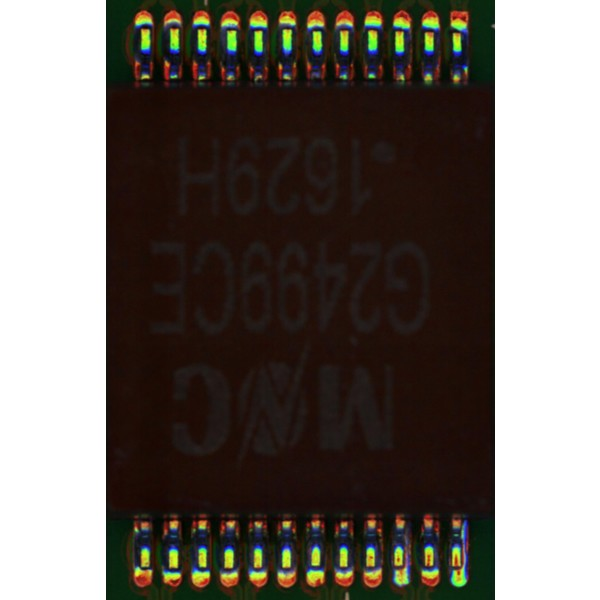Bad_podu: (453, 561, 461, 578)
Bad_qiaojiao: (461, 520, 468, 570)
